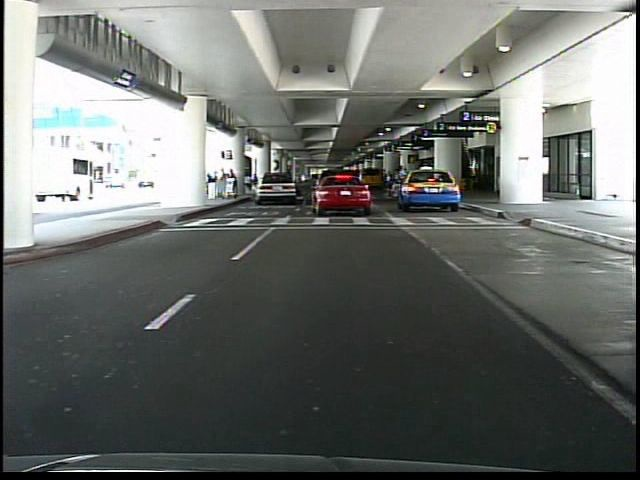person: (283, 165, 297, 203)
